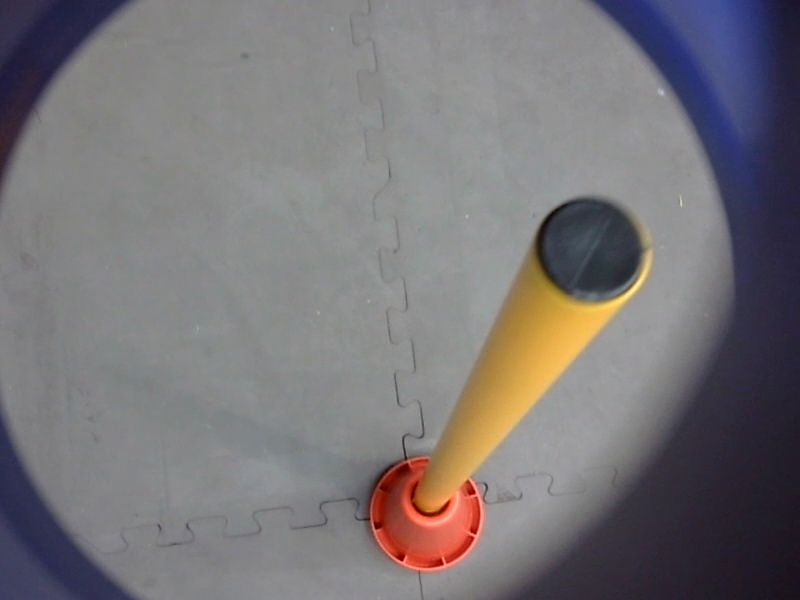tip: (525, 190, 658, 319)
